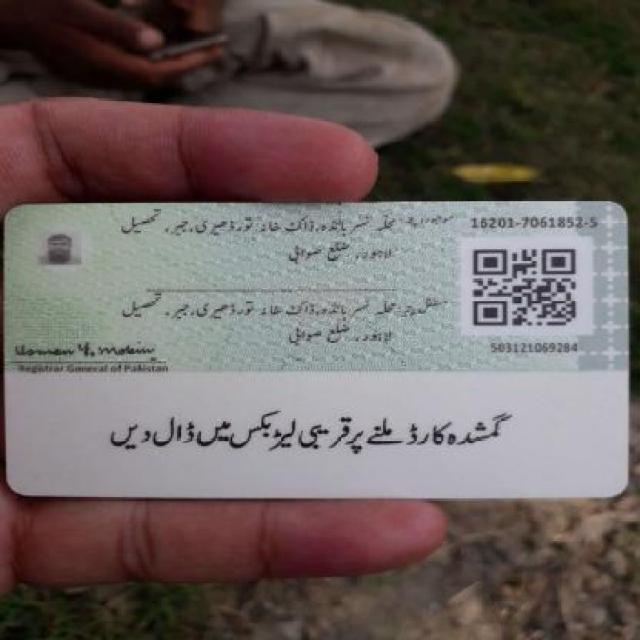Back: (4, 195, 636, 500)
